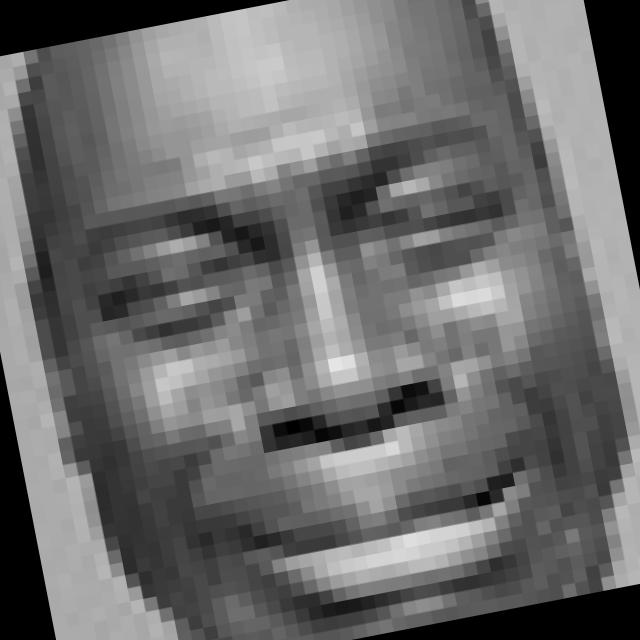sad: (47, 67, 614, 640)
